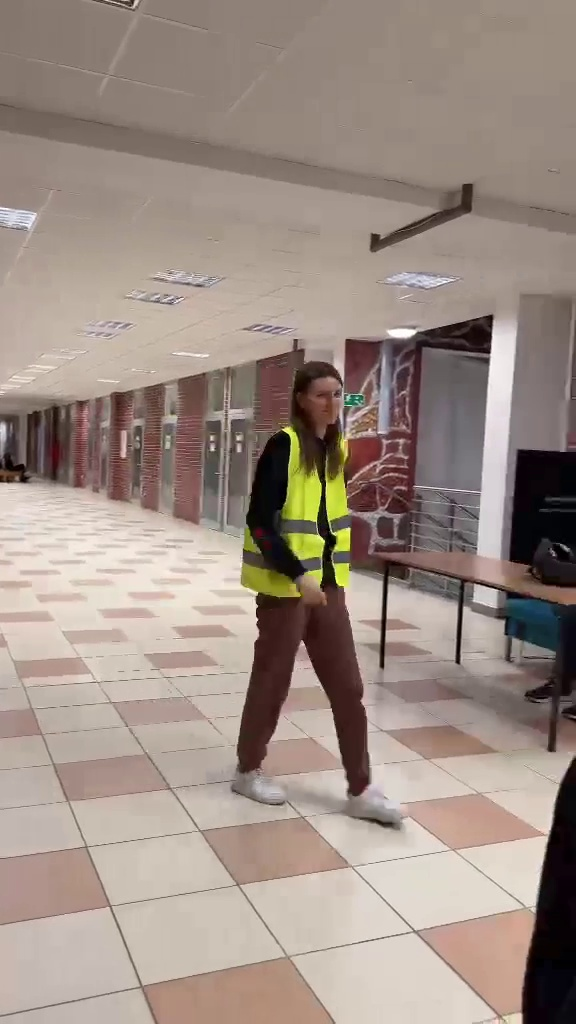vest: (240, 362, 402, 819)
